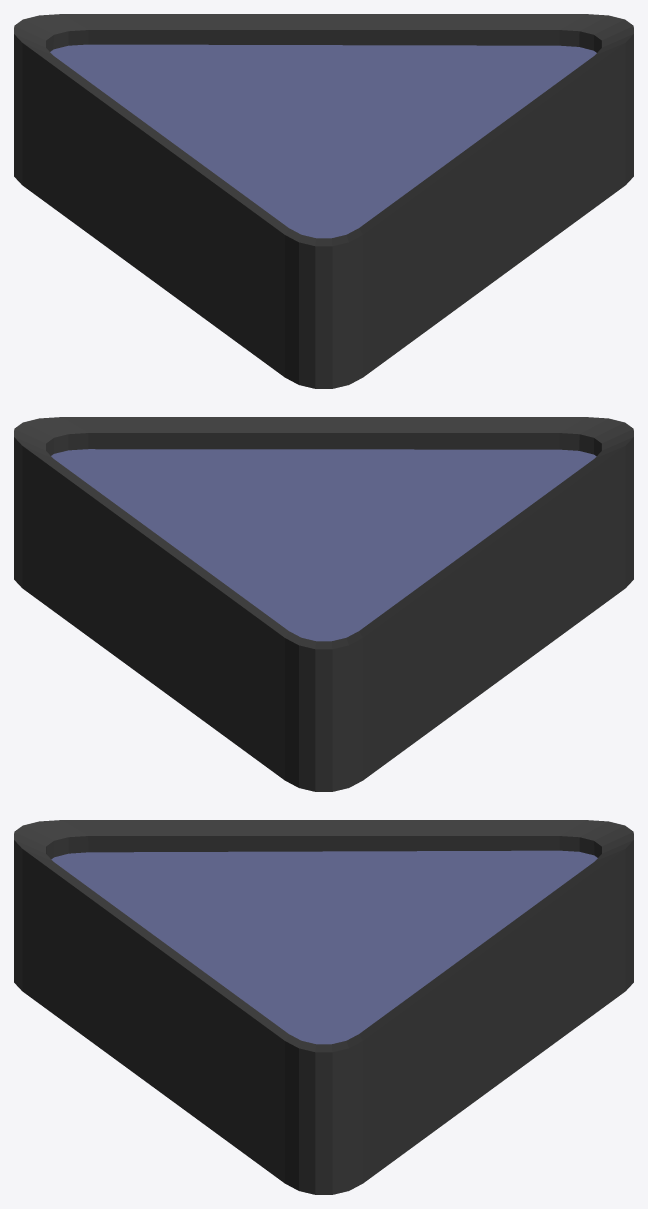
The model's file is Tires.fbx.
The picture shows the model from 3 angles, top to bottom: view 1: azimuth 30°, elevation 25°; view 2: azimuth 150°, elevation 25°; view 3: azimuth 270°, elevation 25°; orthographic projection.
Parts seen in each view (by area): view 1: Cylinder; view 2: Cylinder; view 3: Cylinder.
Boxes of the visible parts, box(x1,y1,x2,y2) form: Cylinder: box(14, 14, 633, 388); Cylinder: box(14, 417, 633, 791); Cylinder: box(14, 820, 633, 1194).
Size of the model in its own units: 140 by 40 by 158.
